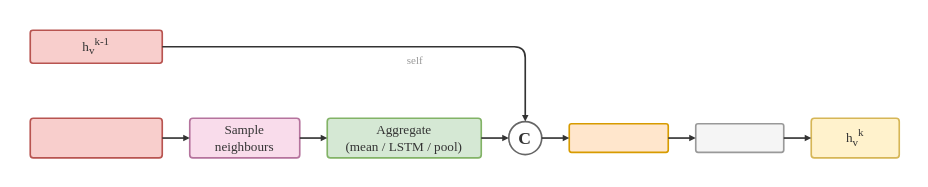
Some shapes in this 928 by 187 pixel diagram are drawn without their labels. The box of each missing label's shape, as (x1, y1, x2, y2) in pixels:
h u k-1 , u ∈ N(v): (29, 117, 163, 158)
W k , σ: (568, 122, 669, 153)
ℓ2 norm: (694, 122, 784, 153)
